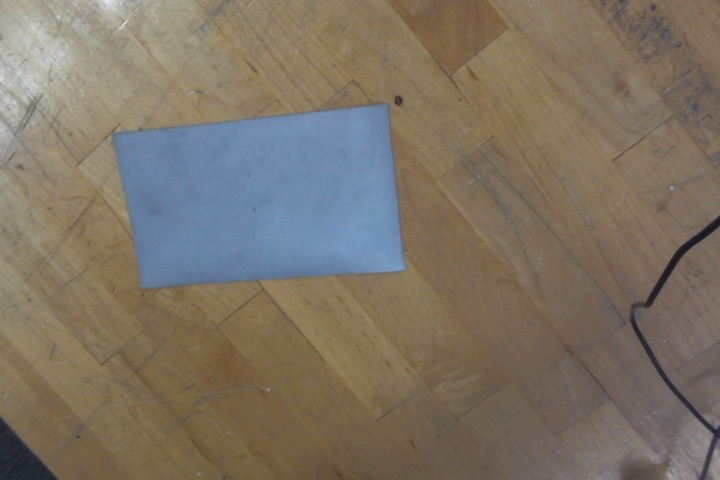Tape: (110, 104, 409, 289)
